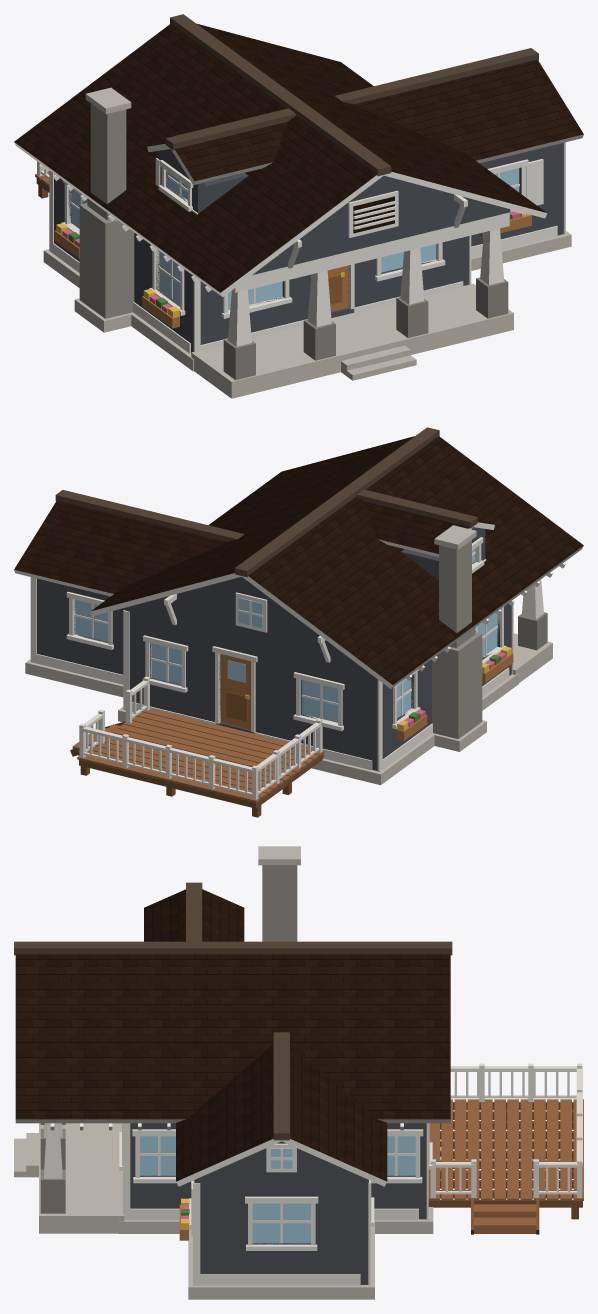
Rendered from base-04-level3.glb.
3 renders of one model, top to bottom at view 1: azimuth 30°, elevation 25°; view 2: azimuth 150°, elevation 25°; view 3: azimuth 270°, elevation 25°, orthographic. The views are drawn at different scales.
Visible parts, largest first — view 1: base_house_4_finished, piece_addition; view 2: base_house_4_finished, piece_addition, piece_deck; view 3: base_house_4_finished, piece_addition, piece_deck.
Boxes of the visible parts, x1=… form: base_house_4_finished: x1=14, y1=14, x2=547, y2=398; piece_addition: x1=335, y1=48, x2=583, y2=270; base_house_4_finished: x1=90, y1=427, x2=583, y2=785; piece_addition: x1=14, y1=490, x2=244, y2=697; piece_deck: x1=70, y1=676, x2=324, y2=817; base_house_4_finished: x1=14, y1=846, x2=452, y2=1233; piece_addition: x1=176, y1=1032, x2=387, y2=1299; piece_deck: x1=428, y1=1063, x2=583, y2=1234.
Bounding box in the file's own units: 13.99 × 6.6 × 14.67.
18 materials, 1 textured.
